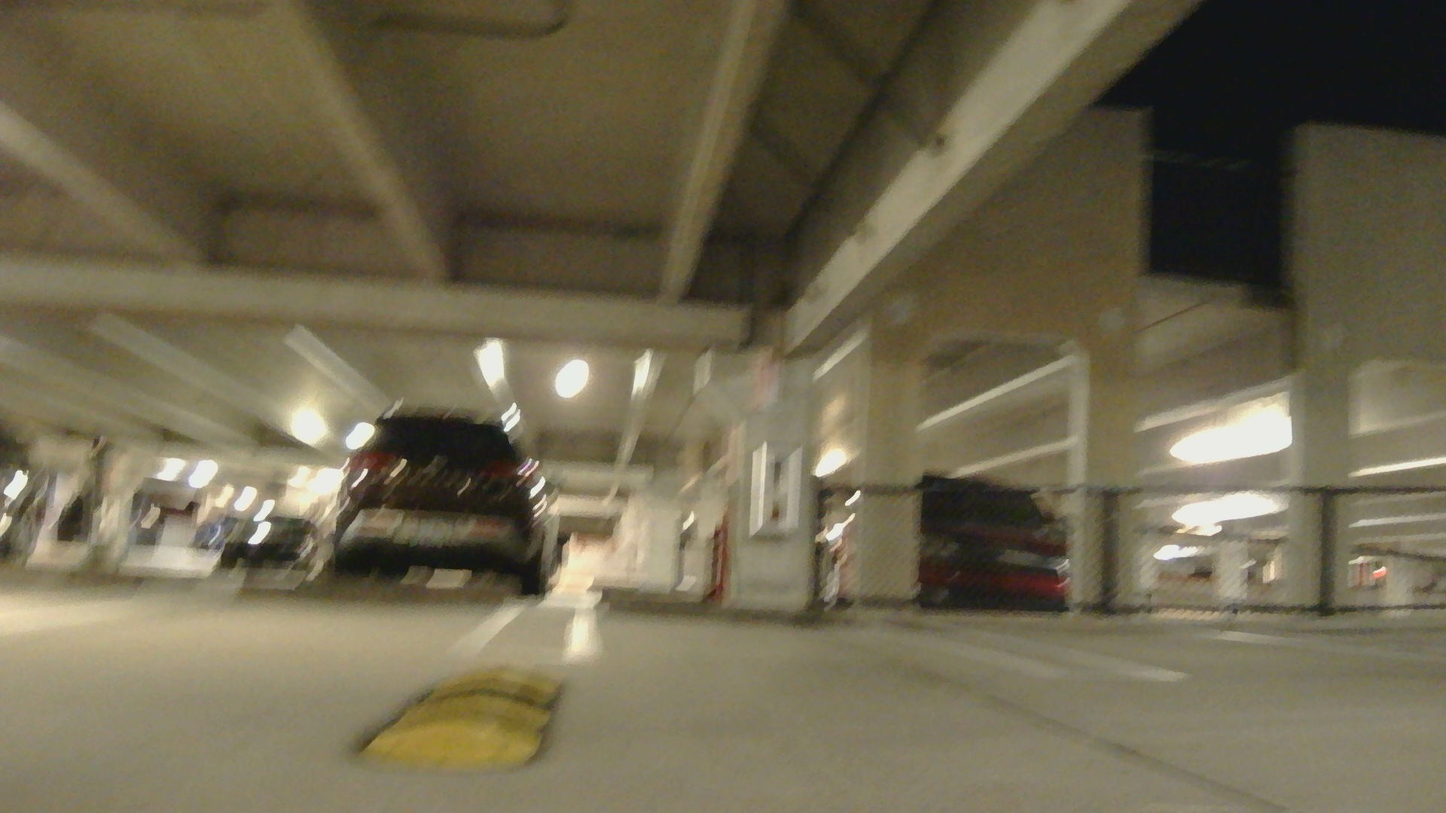empty_spot: (908, 522, 1446, 749), (0, 566, 561, 654), (569, 598, 1095, 671), (1205, 569, 1445, 661)
